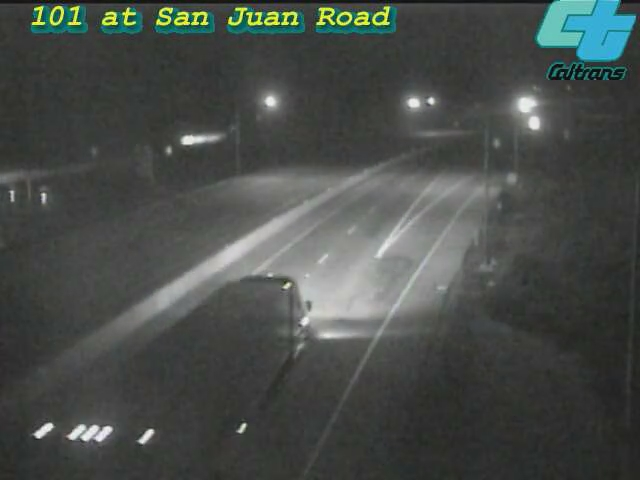vehicle: (153, 320, 263, 430), (508, 99, 558, 149), (502, 79, 552, 129)
